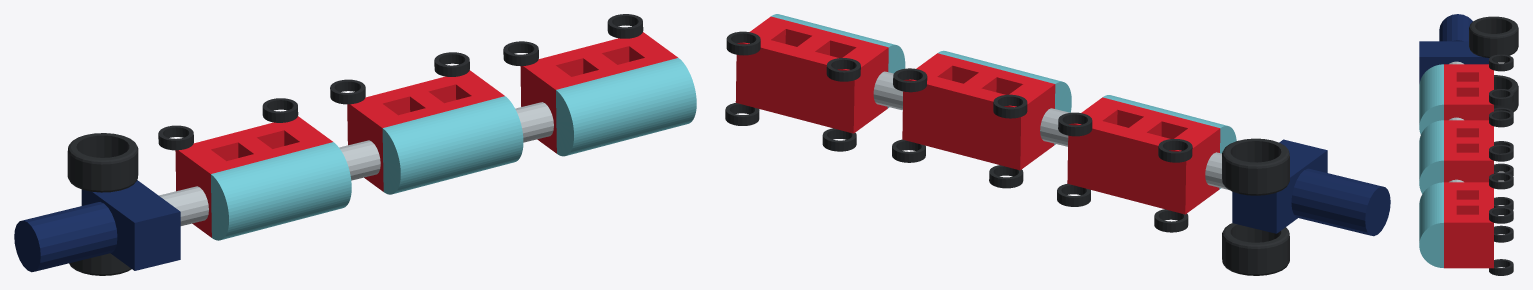
File: tinker.obj
The picture shows the model from 3 angles, left to right: view 1: azimuth 30°, elevation 25°; view 2: azimuth 150°, elevation 25°; view 3: azimuth 270°, elevation 25°; orthographic projection. The views are drawn at different scales.
Parts seen in each view (by area): view 1: group_0_7720667, group_0_15277357, group_0_1650274, group_0_2829873, group_0_12568524; view 2: group_0_15277357, group_0_2829873, group_0_1650274, group_0_7720667, group_0_12568524; view 3: group_0_15277357, group_0_2829873, group_0_7720667, group_0_1650274, group_0_12568524.
Part boxes in pixels (bbox=[...]): group_0_7720667: bbox=[211, 58, 696, 240]; group_0_15277357: bbox=[175, 32, 677, 237]; group_0_1650274: bbox=[14, 180, 180, 272]; group_0_2829873: bbox=[67, 14, 643, 275]; group_0_12568524: bbox=[159, 102, 553, 225]; group_0_15277357: bbox=[735, 16, 1220, 214]; group_0_2829873: bbox=[725, 31, 1289, 275]; group_0_1650274: bbox=[1232, 139, 1390, 236]; group_0_7720667: bbox=[771, 14, 1236, 189]; group_0_12568524: bbox=[873, 71, 1228, 189]; group_0_15277357: bbox=[1444, 64, 1493, 268]; group_0_2829873: bbox=[1469, 16, 1518, 275]; group_0_7720667: bbox=[1419, 64, 1443, 267]; group_0_1650274: bbox=[1419, 14, 1489, 83]; group_0_12568524: bbox=[1449, 61, 1463, 182].
Bounding box in the file's own units: 210 × 36 × 40.
